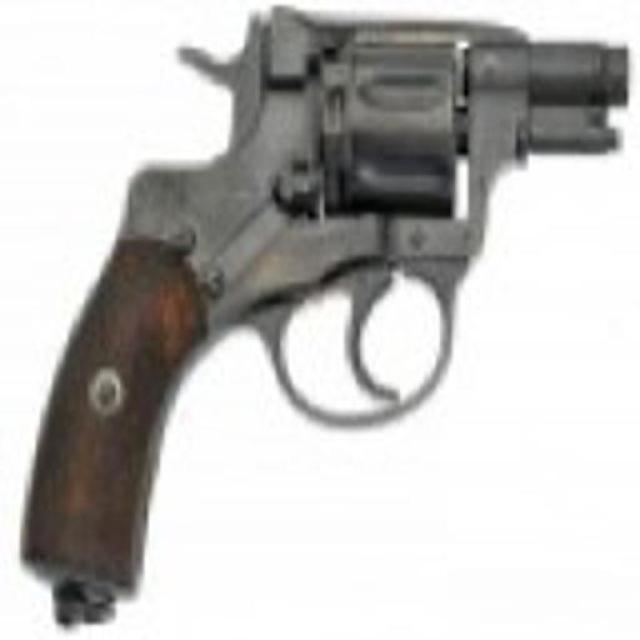pistol: (15, 5, 627, 591)
